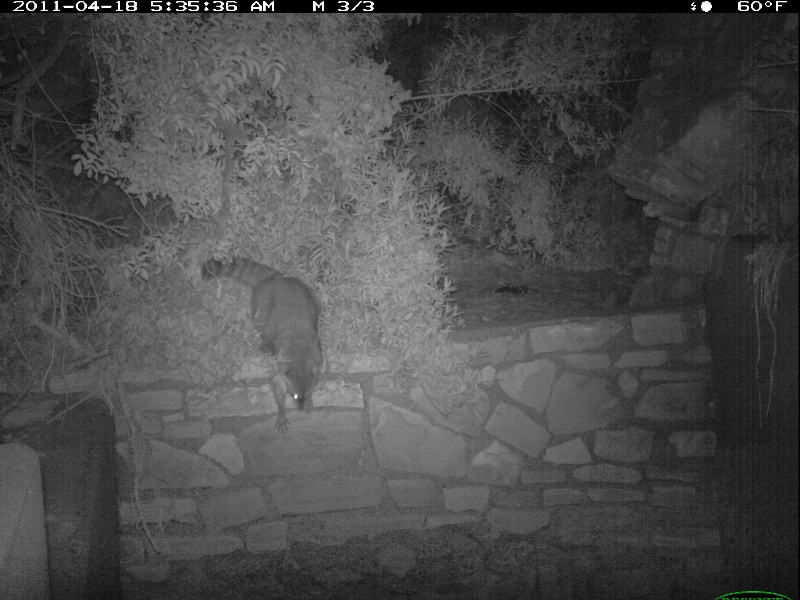raccoon: (203, 253, 326, 415)
